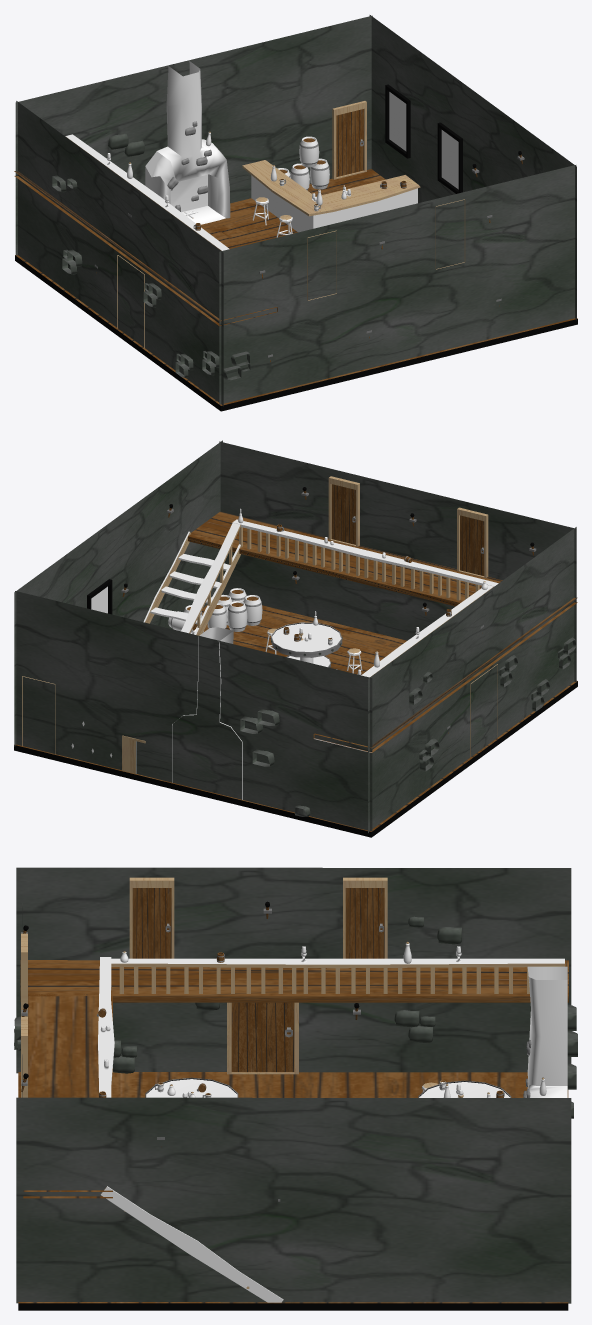
File: tavern.fbx
The picture shows the model from 3 angles, top to bottom: view 1: azimuth 30°, elevation 25°; view 2: azimuth 150°, elevation 25°; view 3: azimuth 270°, elevation 25°; orthographic projection. The views are drawn at different scales.
Visible parts, largest first — view 1: polySurface296, polySurface92, polySurface54, polySurface55, pCube34, pCube84, pCube35, pCube88, pCube36, pPlane9, pPlane8, pCube70 (+2 smaller); view 2: polySurface54, polySurface92, polySurface296, polySurface55, pCube34, pCube37, polySurface123, pCube87, pCube89, polySurface354, pCube36, polySurface152 (+7 smaller); view 3: polySurface55, polySurface92, pCube36, pCube34, pCube37, pCube70, pCube85, pCube84, pCube90, pCube91, polySurface151, polySurface123 (+3 smaller).
Part boxes in pixels (x1,y1,x2,y2): polySurface296: [219, 165, 576, 404]; polySurface92: [16, 101, 223, 406]; polySurface54: [15, 15, 372, 255]; polySurface55: [369, 15, 576, 320]; pCube34: [15, 169, 577, 411]; pCube84: [145, 61, 230, 224]; pCube35: [242, 160, 420, 232]; pCube88: [332, 101, 366, 179]; pCube36: [14, 171, 277, 326]; pPlane9: [385, 84, 410, 158]; pPlane8: [437, 122, 462, 193]; pCube70: [65, 134, 229, 250]; polySurface54: [15, 591, 372, 831]; polySurface92: [368, 527, 576, 832]; polySurface296: [219, 441, 576, 682]; polySurface55: [14, 440, 222, 746]; pCube34: [14, 605, 577, 837]; pCube37: [188, 511, 502, 606]; polySurface123: [232, 519, 498, 600]; pCube87: [328, 476, 359, 546]; pCube89: [457, 507, 488, 577]; polySurface354: [271, 622, 342, 657]; pCube36: [313, 597, 577, 752]; polySurface152: [181, 523, 240, 633]; polySurface55: [16, 1097, 571, 1303]; polySurface92: [16, 867, 571, 1073]; pCube36: [20, 960, 568, 1002]; pCube34: [18, 1072, 568, 1310]; pCube37: [23, 994, 112, 1198]; pCube70: [111, 958, 564, 993]; pCube85: [227, 1002, 298, 1074]; pCube84: [527, 966, 567, 1097]; pCube90: [129, 877, 174, 958]; pCube91: [343, 877, 387, 958]; polySurface151: [100, 1186, 283, 1302]; polySurface123: [98, 957, 114, 1097].
Size of the model in its own units: 68.19 by 28.6 by 69.01.
